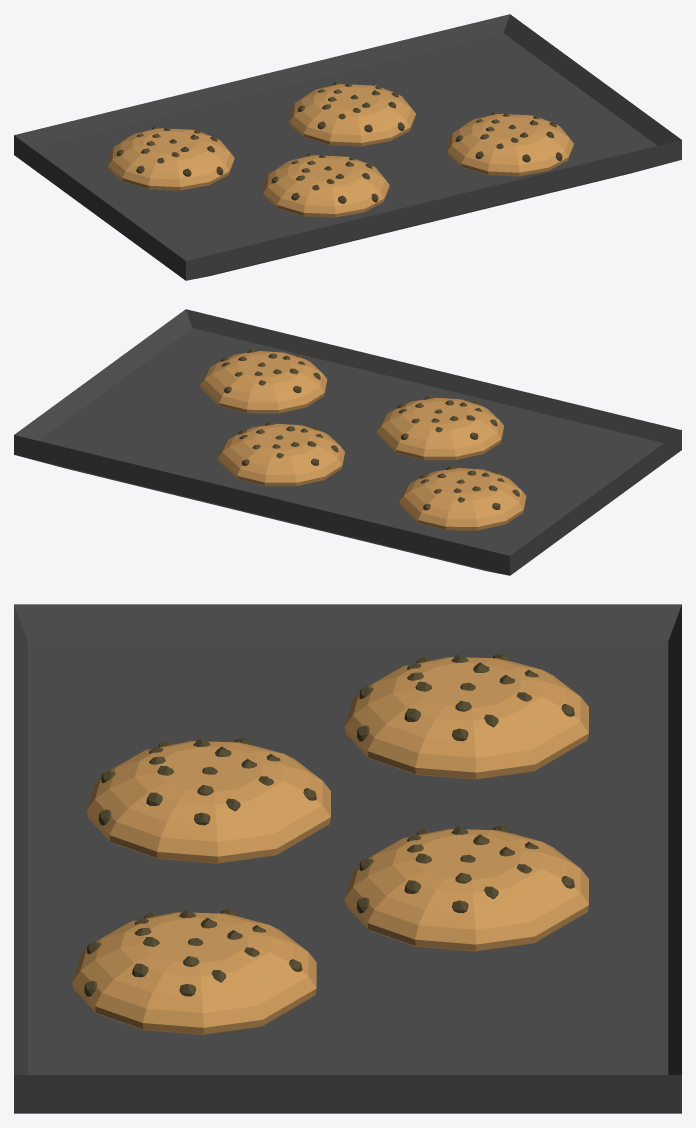
File: rawDarkCookieTray.fbx
3 renders of one model, top to bottom at view 1: azimuth 30°, elevation 25°; view 2: azimuth 150°, elevation 25°; view 3: azimuth 270°, elevation 25°, orthographic. The views are drawn at different scales.
Visible parts, largest first — view 1: Cube, Icosphere.004, Icosphere.002, Icosphere, Icosphere.006; view 2: Cube, Icosphere.002, Icosphere.004, Icosphere.006, Icosphere; view 3: Cube, Icosphere.006, Icosphere.002, Icosphere, Icosphere.004.
Part boxes in pixels (bbox=[...]): Cube: bbox=[14, 14, 681, 280]; Icosphere.004: bbox=[289, 82, 415, 146]; Icosphere.002: bbox=[263, 153, 389, 217]; Icosphere: bbox=[108, 126, 234, 190]; Icosphere.006: bbox=[447, 112, 573, 176]; Cube: bbox=[14, 309, 681, 575]; Icosphere.002: bbox=[377, 395, 503, 460]; Icosphere.004: bbox=[218, 421, 344, 486]; Icosphere.006: bbox=[200, 348, 327, 413]; Icosphere: bbox=[399, 465, 526, 530]; Cube: bbox=[14, 604, 681, 1113]; Icosphere.006: bbox=[72, 909, 316, 1034]; Icosphere.002: bbox=[86, 738, 330, 863]; Icosphere: bbox=[344, 654, 588, 779]; Icosphere.004: bbox=[344, 826, 588, 951].
Size of the model in its own units: 236 by 20.51 by 142.
